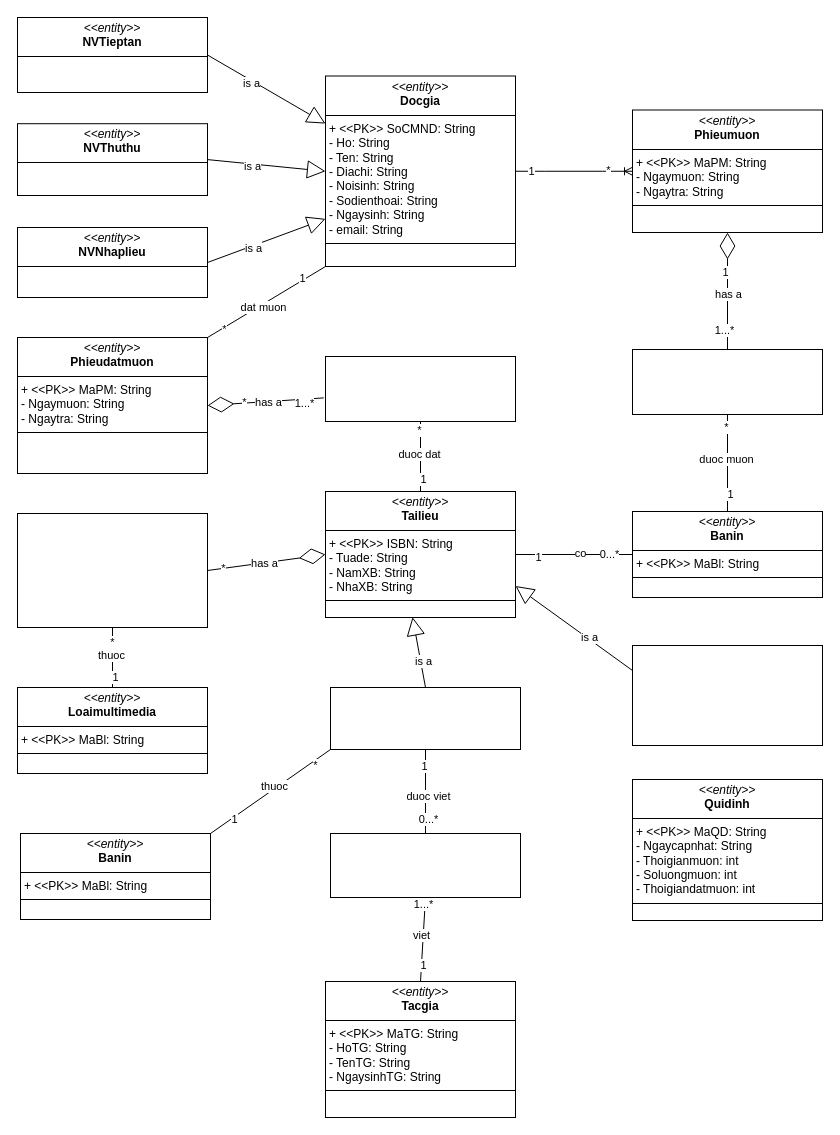
This 840x1135 diagram has some shape labels left out. The shapes that lost their labels are listed below. From the top down, each one's box as (x1, y1, x2, y2) in pixels, then its label:
(324, 356, 516, 422): <<entity>> CTPhieudatmuon
(632, 348, 822, 414): <<entity>> CTPhieumuon
(16, 512, 208, 628): <<entity>> Multimedia + <<PK>> MaM: String - File: String - MaLM: String
(632, 644, 822, 746): <<entity>> Tapchi - SoTC: String - Linhvuc: String
(330, 686, 520, 750): <<entity>> Sach
(330, 832, 520, 898): <<entity>> Viet
